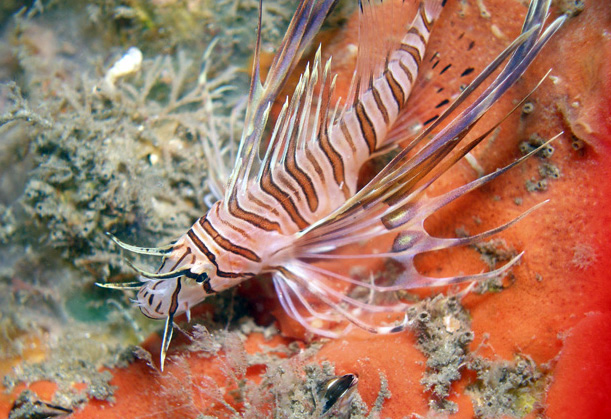Pterois_volitans: (76, 4, 535, 351)
